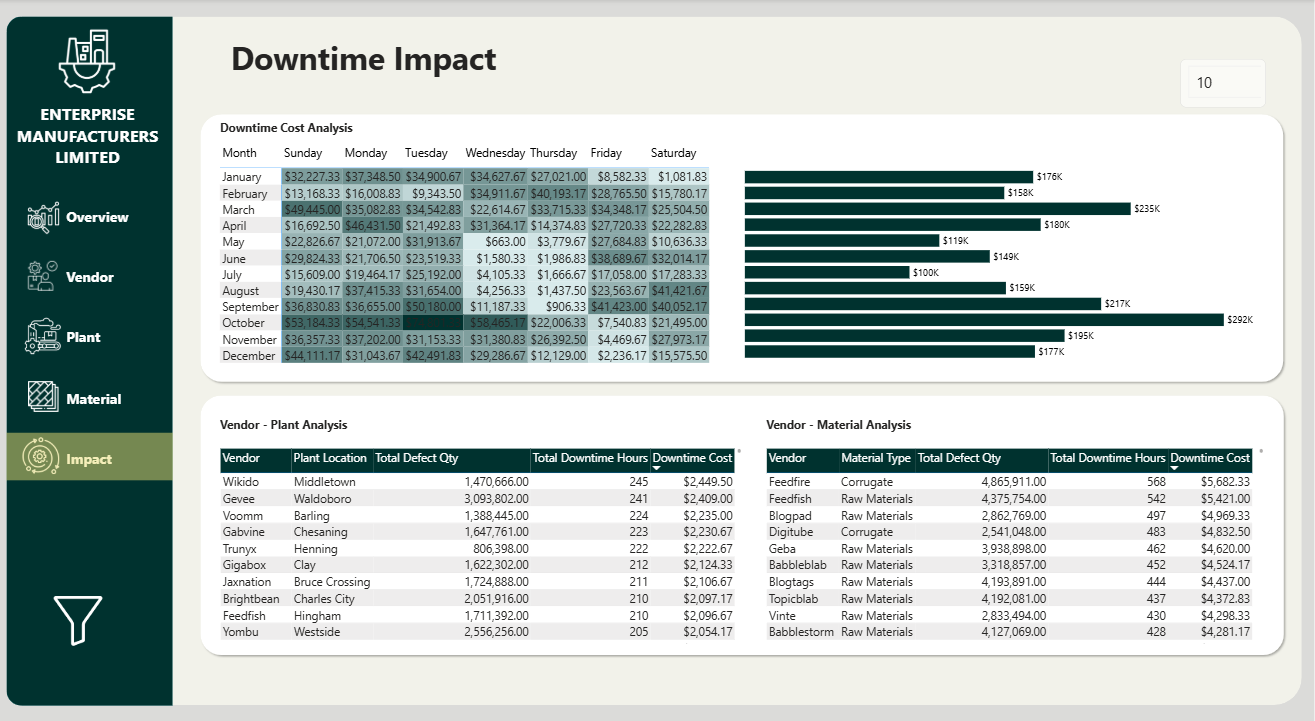

The page's visual inventory and layout, read from the dashboard file:
{"tool":"powerbi","page":{"name":" Impact","canvas":[3000,1650],"ordinal":5},"visuals":[{"type":"shape","box":[0,0,3000,1650.3],"z":0},{"type":"image","box":[54.2,456.1,94.1,85.5],"z":0,"group":"g1"},{"type":"textbox","box":[148.2,607.9,156.8,82.7],"z":0,"group":"g2"},{"type":"textbox","box":[148.2,745.5,156.8,82.7],"z":0,"group":"g3"},{"type":"textbox","box":[148.3,883,156.8,82.7],"z":0,"group":"g4"},{"type":"textbox","box":[148.3,1020.6,156.8,82.7],"z":0,"group":"g5"},{"type":"image","box":[116.9,1356.9,128.3,122.6],"z":0,"group":"g6"},{"type":"shape","box":[30.1,39.9,2939.9,1570.2],"z":1000},{"type":"textbox","box":[148.3,470.4,156.8,82.7],"z":1000,"group":"g1"},{"type":"image","box":[51.3,590.1,96.9,82.7],"z":1000,"group":"g2"},{"type":"image","box":[51.3,718.4,96.9,99.8],"z":1000,"group":"g3"},{"type":"image","box":[54.2,866.6,94.1,79.8],"z":1000,"group":"g4"},{"type":"image","box":[42.8,992.1,105.5,99.8],"z":1000,"group":"g5"},{"type":"shape","box":[16,39.9,379,1571.8],"z":2000},{"type":"image","box":[76.8,63.8,247.3,159.6],"z":3000},{"type":"textbox","box":[27.9,231.4,347.1,187.5],"z":4000},{"type":"textbox","box":[451,80.2,761.7,120.3],"z":5000},{"type":"shape","box":[450.4,895.1,2488.7,610.1],"z":6000},{"type":"shape","box":[450.9,253.1,2487.4,628.4],"z":7000},{"type":"tableEx","fields":{"Values":["Supplier Quality.Vendor","Plant Location.Plant Location","Defect Quantity.Total Defect Qty","DownTime.Total Downtime Hours","Downtime Cost.Downtime Cost"]},"box":[497.5,1021.2,1198.6,453.8],"z":8000},{"type":"slicer","fields":{"Values":["Impact Cost.Impact Cost "]},"box":[2694,136.7,194.9,110.6],"z":9000},{"type":"tableEx","title":"Vendor-Material Analysis","fields":{"Values":["Supplier Quality.Vendor","Material Type.Material Type","Defect Quantity.Total Defect Qty","DownTime.Total Downtime Hours","Downtime Cost.Downtime Cost"]},"box":[1745.6,1021.2,1143.3,453.8],"z":10000},{"type":"pivotTable","fields":{"Rows":["Date.Month Name"],"Columns":["Date.Day of Week Name"],"Values":["Downtime Cost.Downtime Cost"]},"box":[498.9,325,1197.3,521.7],"z":11000},{"type":"clusteredBarChart","fields":{"Category":["Date.Month Name"],"Y":["Downtime Cost.Downtime Cost"]},"box":[1696.2,379.1,1191.6,444.7],"z":12000},{"type":"group","id":"g1","title":"Group 2","box":[54.2,456.1,250.9,96.9],"z":13000},{"type":"image","box":[116.9,1357,128.3,122.6],"z":14000},{"type":"group","id":"g2","title":"Group 3","box":[51.3,590.1,253.7,100.5],"z":15000},{"type":"group","id":"g3","title":"Group 4","box":[51.3,718.4,253.7,109.8],"z":16000},{"type":"group","id":"g4","title":"Group 5","box":[54.2,866.6,250.9,99.1],"z":17000},{"type":"group","id":"g5","title":"Group 6","box":[42.8,992.1,262.3,111.2],"z":18000},{"type":"shape","box":[16.9,989.6,379.6,108.5],"z":19000},{"type":"shape","box":[16.9,718.5,379.6,108.5],"z":20000},{"type":"shape","box":[16.9,850.7,379.6,108.5],"z":21000},{"type":"shape","box":[16.9,444,379.6,108.5],"z":22000},{"type":"shape","box":[16.9,586.3,379.6,108.5],"z":23000},{"type":"group","id":"g6","title":"Impact Filter","box":[116.9,442.2,716.8,1037.3],"z":24000},{"type":"textbox","box":[497.5,945.5,334.6,46.5],"z":25000},{"type":"textbox","box":[1745.6,945.5,386.9,46.5],"z":26000},{"type":"textbox","box":[497.5,270.6,334.6,46.5],"z":27000}]}

Visuals, with their boxes in screenshot pixels (x1, y1, x2, y2), scaled from the page's 3000x1650 canvas onto the 1315x721 screenshot:
shape: BBox(0, 0, 1314, 720)
image: BBox(24, 199, 65, 237)
textbox: BBox(65, 266, 134, 302)
textbox: BBox(65, 326, 134, 362)
textbox: BBox(65, 386, 134, 422)
textbox: BBox(65, 446, 134, 482)
image: BBox(51, 593, 107, 646)
shape: BBox(13, 17, 1302, 704)
textbox: BBox(65, 206, 134, 242)
image: BBox(22, 258, 65, 294)
image: BBox(22, 314, 65, 358)
image: BBox(24, 379, 65, 414)
image: BBox(19, 434, 65, 477)
shape: BBox(7, 17, 173, 704)
image: BBox(34, 28, 142, 98)
textbox: BBox(12, 101, 164, 183)
textbox: BBox(198, 35, 532, 88)
shape: BBox(197, 391, 1288, 658)
shape: BBox(198, 111, 1288, 385)
tableEx - Supplier Quality.Vendor x Plant Location.Plant Location: BBox(218, 446, 743, 645)
slicer - Impact Cost.Impact Cost : BBox(1181, 60, 1266, 108)
"Vendor-Material Analysis" tableEx: BBox(765, 446, 1266, 645)
pivotTable - Date.Month Name x Date.Day of Week Name: BBox(219, 142, 744, 370)
clusteredBarChart - Date.Month Name x Downtime Cost.Downtime Cost: BBox(744, 166, 1266, 360)
"Group 2" group: BBox(24, 199, 134, 242)
image: BBox(51, 593, 107, 647)
"Group 3" group: BBox(22, 258, 134, 302)
"Group 4" group: BBox(22, 314, 134, 362)
"Group 5" group: BBox(24, 379, 134, 422)
"Group 6" group: BBox(19, 434, 134, 482)
shape: BBox(7, 432, 174, 480)
shape: BBox(7, 314, 174, 361)
shape: BBox(7, 372, 174, 419)
shape: BBox(7, 194, 174, 241)
shape: BBox(7, 256, 174, 304)
"Impact Filter" group: BBox(51, 193, 365, 646)
textbox: BBox(218, 413, 365, 433)
textbox: BBox(765, 413, 935, 433)
textbox: BBox(218, 118, 365, 139)
